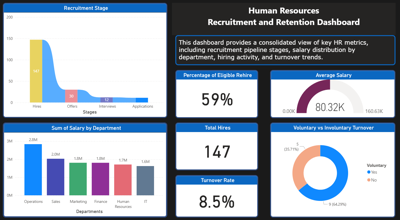

The dashboard page shown, as its layout file describes it:
{"tool":"powerbi","page":{"name":"Page 1","canvas":[1280,720],"ordinal":0},"visuals":[{"type":"ribbonChart","title":"Recruitment Stage","fields":{"Category":["hr_sample_data.Stage"],"Y":["CountNonNull(hr_sample_data.Stage)"]},"box":[15.3,19.5,520.1,362.5],"z":0},{"type":"card","title":"Total Hires","fields":{"Values":["hr_sample_data.TotalHires"]},"box":[560.5,397.4,262.1,150.6],"z":1000},{"type":"columnChart","fields":{"Category":["hr_sample_data.Department"],"Y":["Sum(hr_sample_data.Salary)"]},"box":[15.3,397.4,520.1,299.8],"z":2000},{"type":"donutChart","title":"Voluntary vs Involuntary Turnover","fields":{"Y":["CountNonNull(hr_sample_data.EmployeeID)"],"Category":["hr_sample_data.Voluntary"]},"box":[860.3,397.4,396,299.8],"z":3000},{"type":"card","title":"Turnover Rate","fields":{"Values":["hr_sample_data.TurnoverRate"]},"box":[560.5,563.3,262.1,133.9],"z":4000},{"type":"textbox","title":"Human Resources Recruitment and Retention Dashboard","box":[560.5,121.3,695.8,94.8],"z":4001},{"type":"textbox","box":[549.4,19.5,706.9,101.8],"z":4002},{"type":"card","title":"Percentage of Eligible Rehire","fields":{"Values":["hr_sample_data.PctEligibleRehire"]},"box":[560.5,231.5,262.1,152],"z":4003},{"type":"gauge","title":"Average Salary","fields":{"Y":["hr_sample_data.AvgSalary"]},"box":[860.3,231.5,396,152],"z":4004}]}

Visuals, with their boxes in screenshot pixels (x1, y1, x2, y2), scaled from the page's 1280x720 canvas onto the 400x220 screenshot:
"Recruitment Stage" ribbonChart: x1=5 y1=6 x2=167 y2=117
"Total Hires" card: x1=175 y1=121 x2=257 y2=167
columnChart - hr_sample_data.Department x Sum(hr_sample_data.Salary): x1=5 y1=121 x2=167 y2=213
"Voluntary vs Involuntary Turnover" donutChart: x1=269 y1=121 x2=393 y2=213
"Turnover Rate" card: x1=175 y1=172 x2=257 y2=213
"Human Resources Recruitment and Retention Dashboard" textbox: x1=175 y1=37 x2=393 y2=66
textbox: x1=172 y1=6 x2=393 y2=37
"Percentage of Eligible Rehire" card: x1=175 y1=71 x2=257 y2=117
"Average Salary" gauge: x1=269 y1=71 x2=393 y2=117
